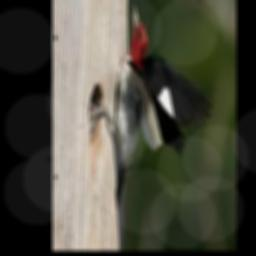Woodpecker: (90, 3, 211, 208)
